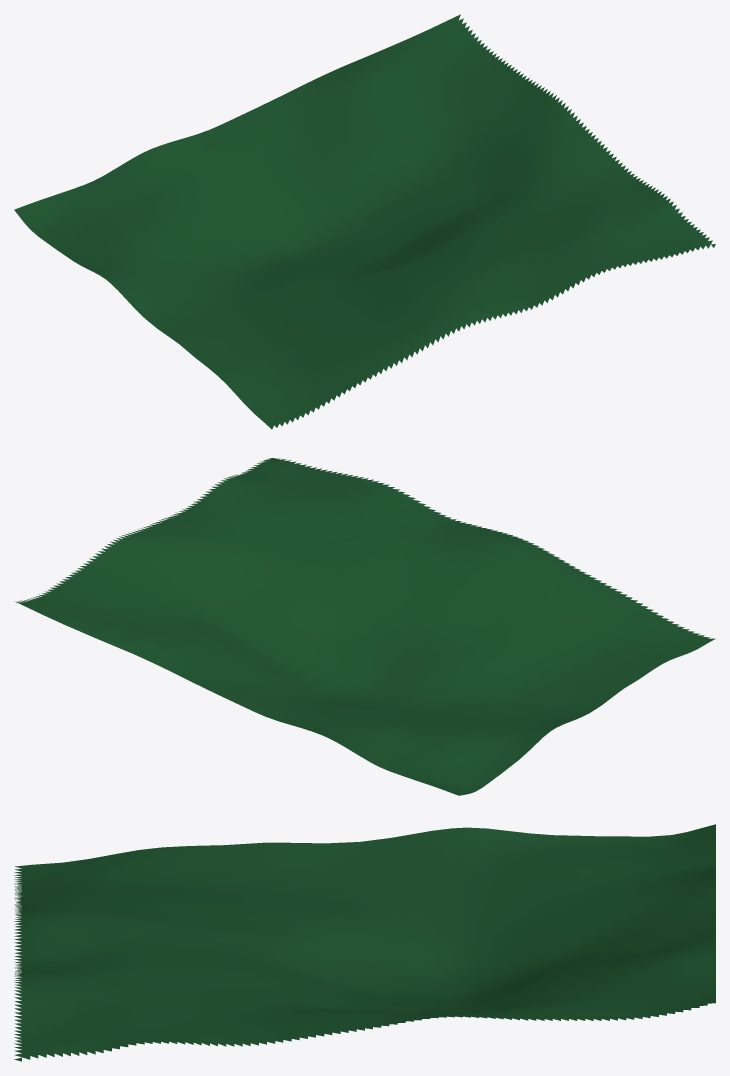
Rendered from payo_land_x2_y1_lod2.glb.
3 views of the same model, one above another, from view 1: azimuth 30°, elevation 25°; view 2: azimuth 150°, elevation 25°; view 3: azimuth 270°, elevation 25° (orthographic). The views are drawn at different scales.
Visible parts, largest first — view 1: payo_land_x2_y1; view 2: payo_land_x2_y1; view 3: payo_land_x2_y1.
Part boxes in pixels (x1=…): payo_land_x2_y1: x1=14, y1=14, x2=715, y2=429; payo_land_x2_y1: x1=15, y1=458, x2=715, y2=795; payo_land_x2_y1: x1=14, y1=824, x2=715, y2=1061.
Size of the model in its own units: 258 by 64.89 by 258.
